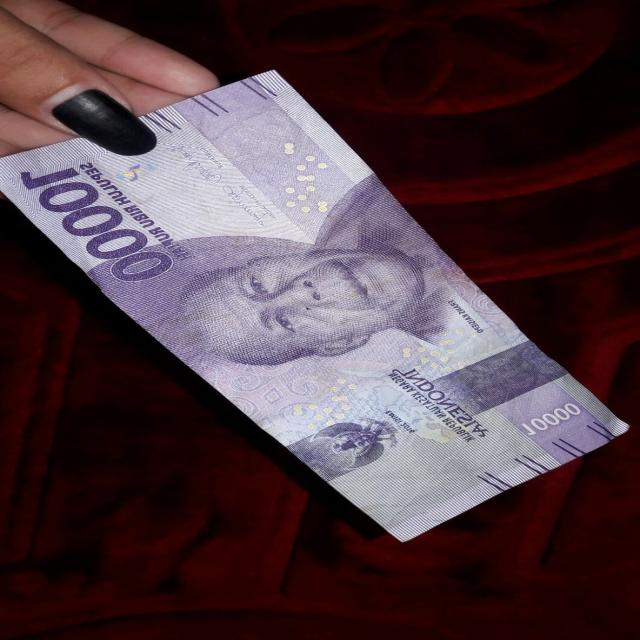sepuluh ribu rupiah: (0, 68, 637, 543)
